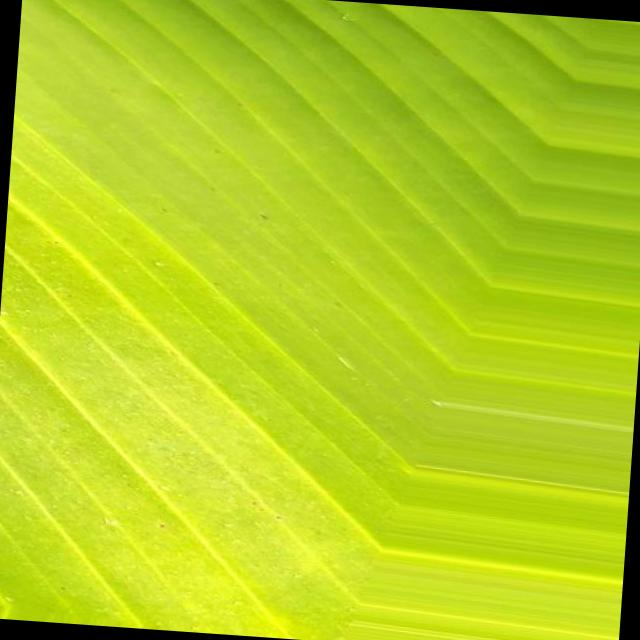Banana_Healthy: (126, 76, 552, 472)
